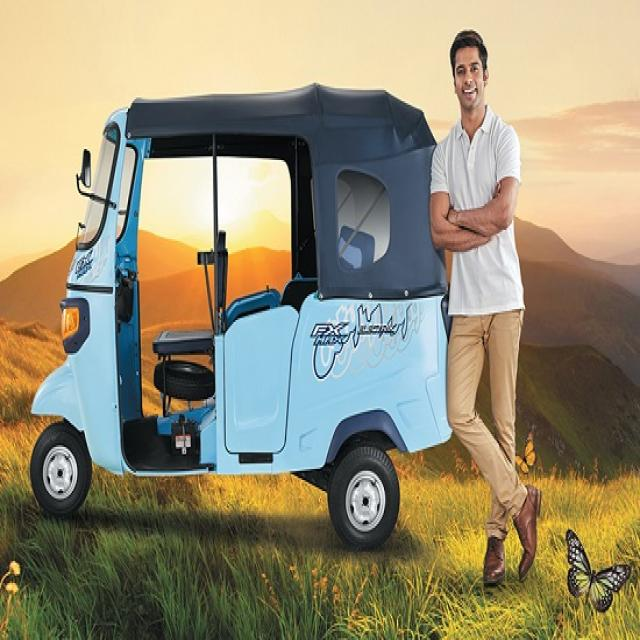autorickshaw: (31, 85, 450, 549)
